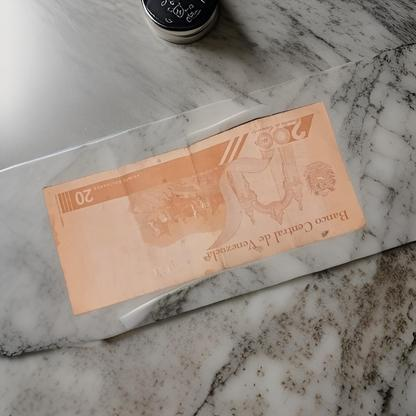twenty-back-vef: (41, 100, 366, 314)
